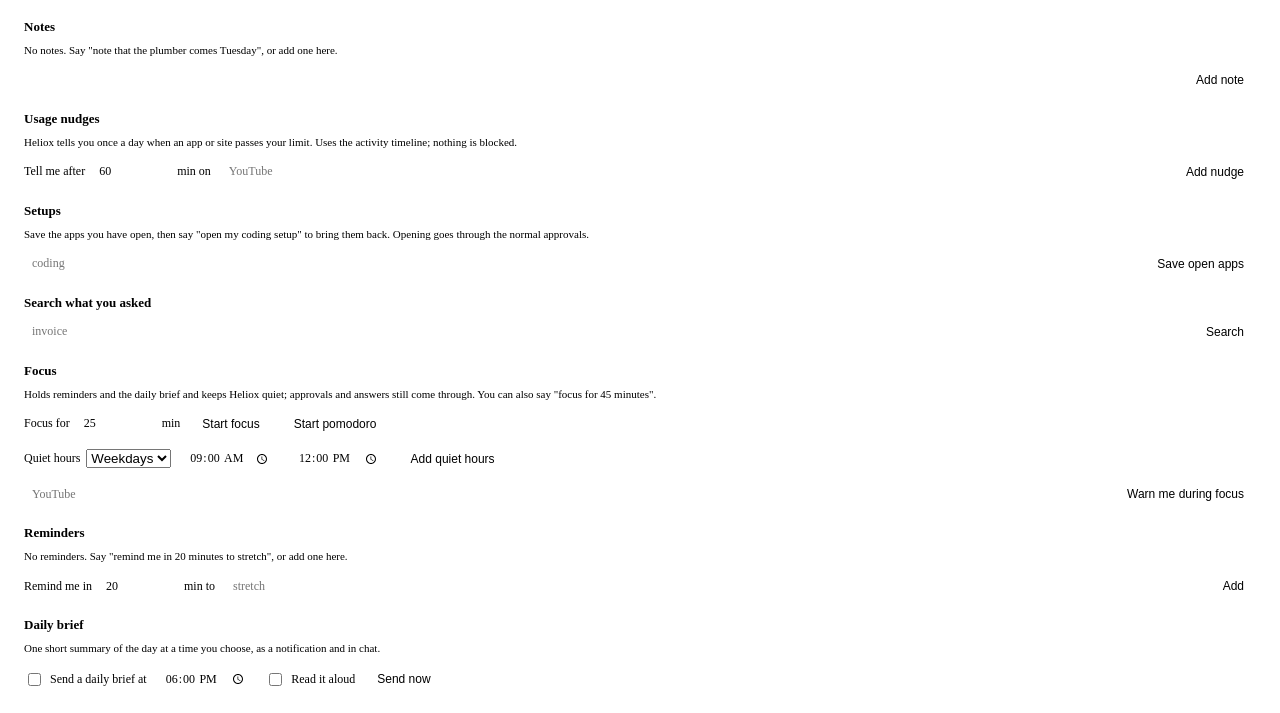
TodayPanel › starts a pomodoro and manages quiet hours
(page scrolled)
Step 1. Click the button "Start pomodoro" → x=335, y=424, box [282,411,388,437]
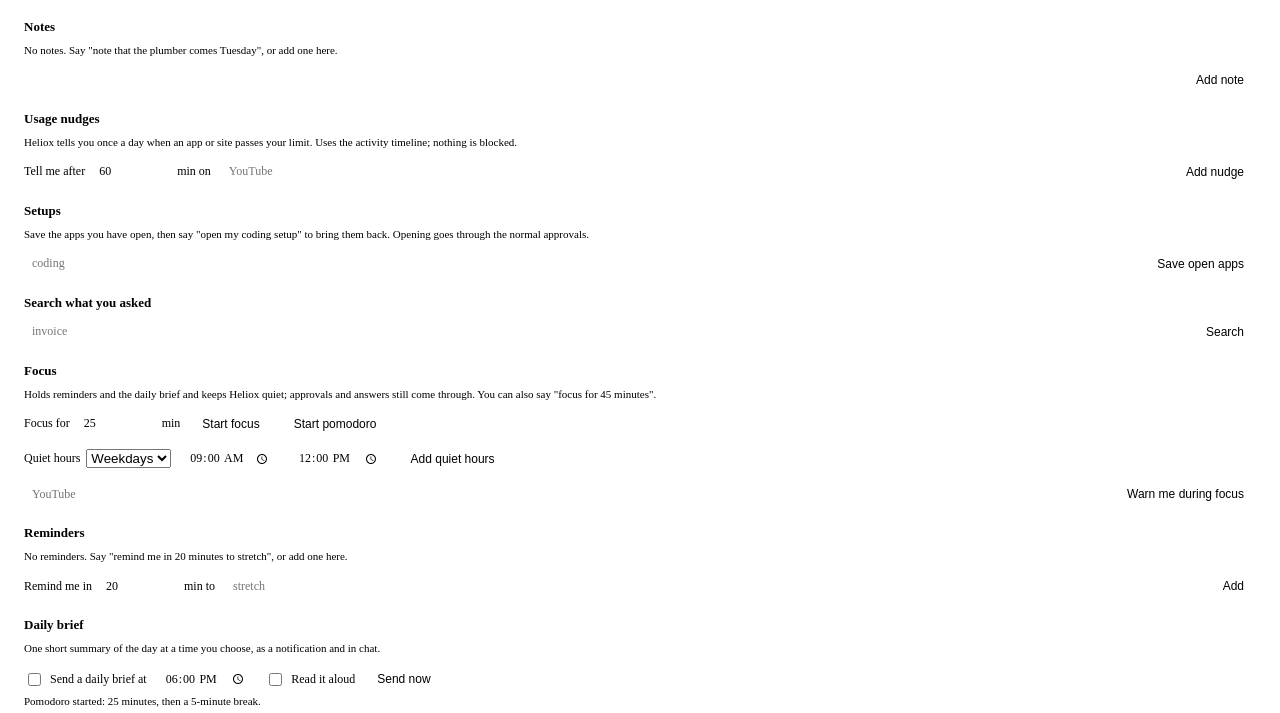
Step 2. Click the button "Add quiet hours" → x=453, y=459, box [398,446,507,472]
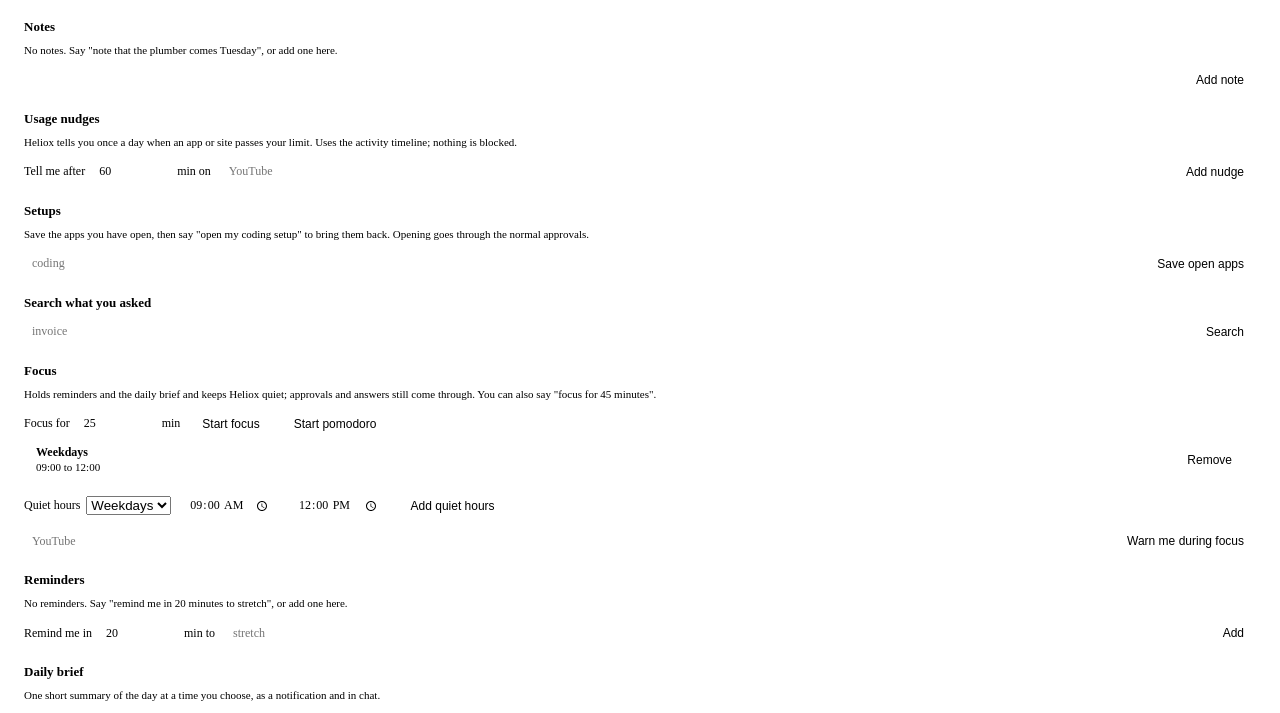
Check: the text "09:00 to 12:00" is shown, box [36,461,100,473]
Step 3. Click the button with aria-label "Remove quiet hours 09:00" → x=1210, y=460, box [1175,447,1244,473]
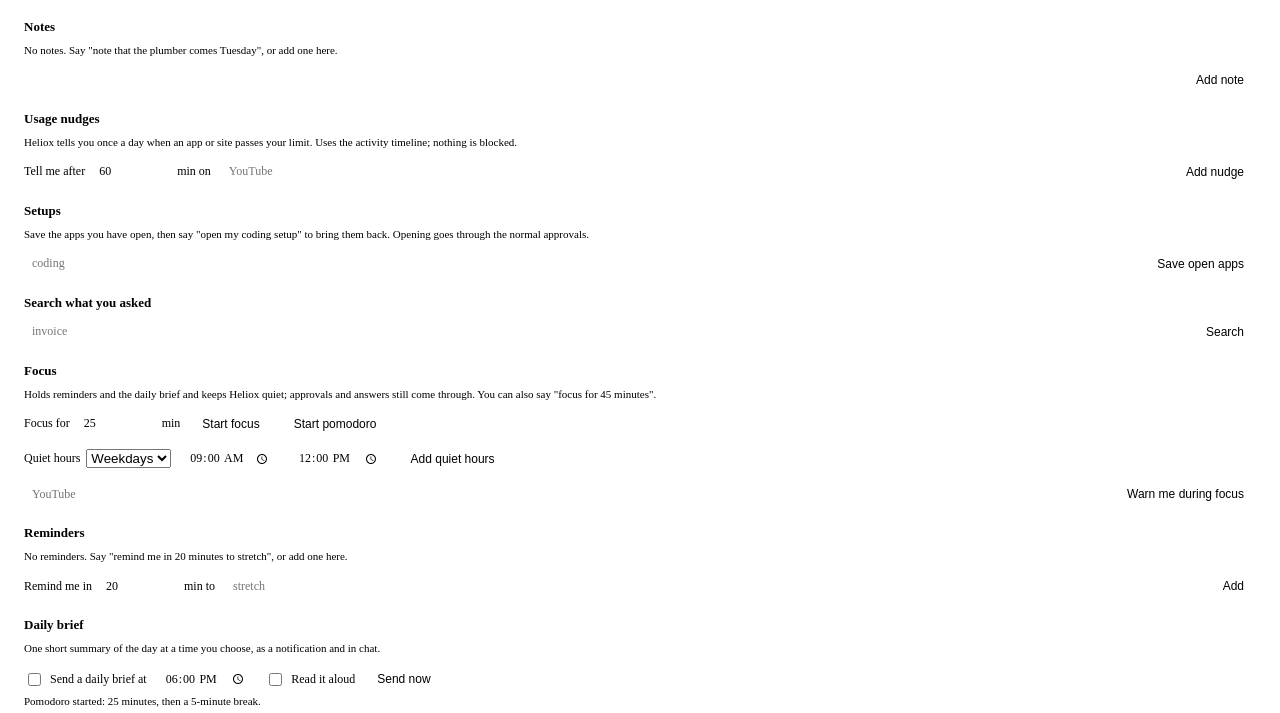
Check: the text "09:00 to 12:00" is gone
